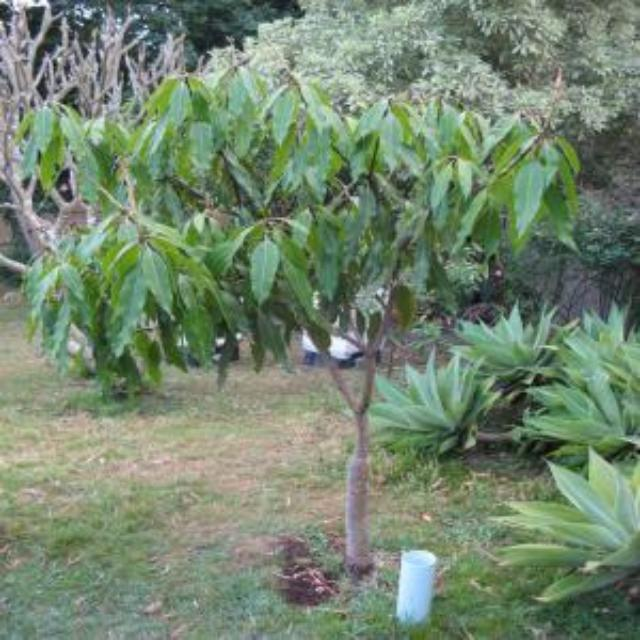tree: (22, 75, 576, 578)
